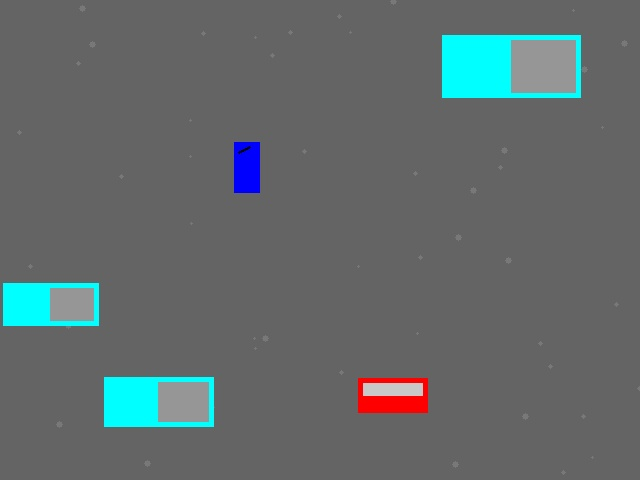car: (358, 378, 427, 412)
motorcycle: (234, 142, 259, 192)
truck: (442, 35, 580, 97), (104, 377, 213, 426), (3, 283, 98, 325)
